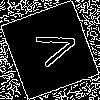V: (25, 25, 82, 72)
